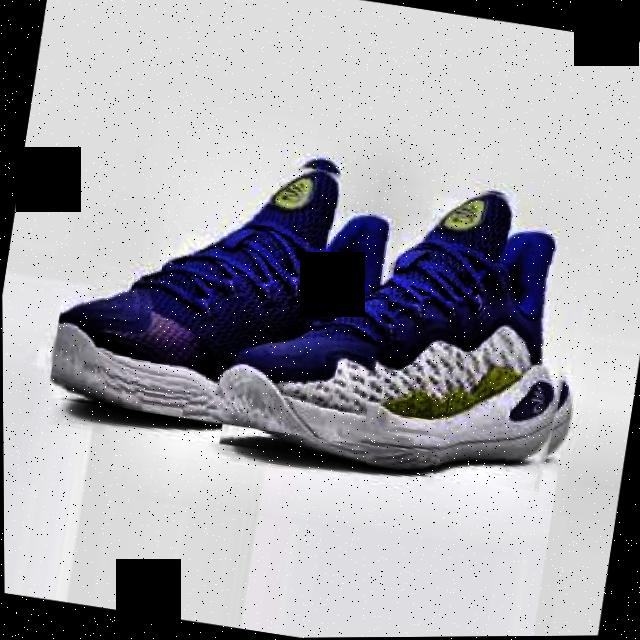shoe: (217, 154, 604, 498), (45, 121, 414, 449)
